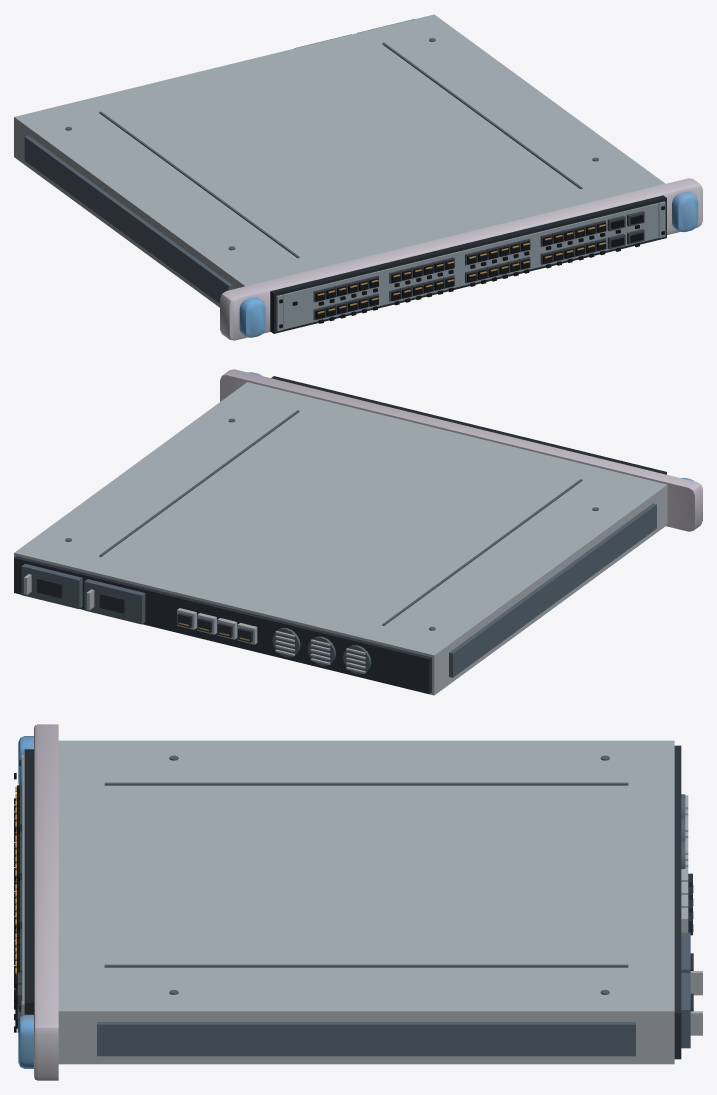
Rendered from switch-1u.glb.
3 renders of one model, top to bottom at view 1: azimuth 30°, elevation 25°; view 2: azimuth 150°, elevation 25°; view 3: azimuth 270°, elevation 25°, orthographic. The views are drawn at different scales.
Visible parts, largest first — view 1: switch 1, Façade 1, Poignée 1-1, Poignée 1-2; view 2: switch 1, Façade 1; view 3: switch 1, Façade 1, Poignée 1-2.
Boxes of the visible parts, x1,y1,x2,y2 form: switch 1: [14, 14, 666, 333]; Façade 1: [220, 178, 702, 340]; Poignée 1-1: [239, 297, 265, 337]; Poignée 1-2: [672, 191, 698, 232]; switch 1: [14, 376, 667, 695]; Façade 1: [220, 369, 702, 531]; switch 1: [14, 740, 702, 1064]; Façade 1: [34, 724, 58, 1080]; Poignée 1-2: [18, 1014, 33, 1068].
Bounding box in the file's own units: 0.47 × 0.0415 × 0.4474.
Materials: 12 (1 with a texture image).
